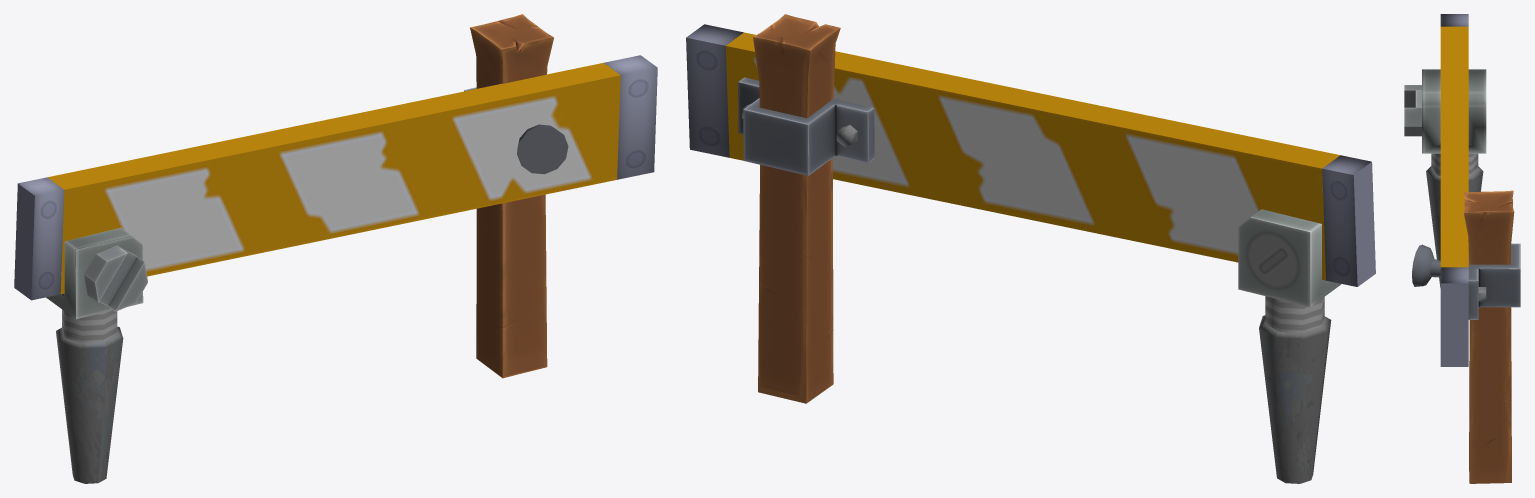
The model's file is hvs_hideout_fence02.fbx.
The picture shows the model from 3 angles, left to right: view 1: azimuth 30°, elevation 25°; view 2: azimuth 150°, elevation 25°; view 3: azimuth 270°, elevation 25°; orthographic projection. The views are drawn at different scales.
Parts seen in each view (by area): view 1: hvs_hideout_fence02; view 2: hvs_hideout_fence02; view 3: hvs_hideout_fence02.
Part boxes in pixels (<box>): hvs_hideout_fence02: <box>14,14,657,483</box>; hvs_hideout_fence02: <box>686,14,1375,483</box>; hvs_hideout_fence02: <box>1404,14,1520,483</box>.
Size of the model in its own units: 8.26 by 4.19 by 1.62.
1 material, 1 textured.
